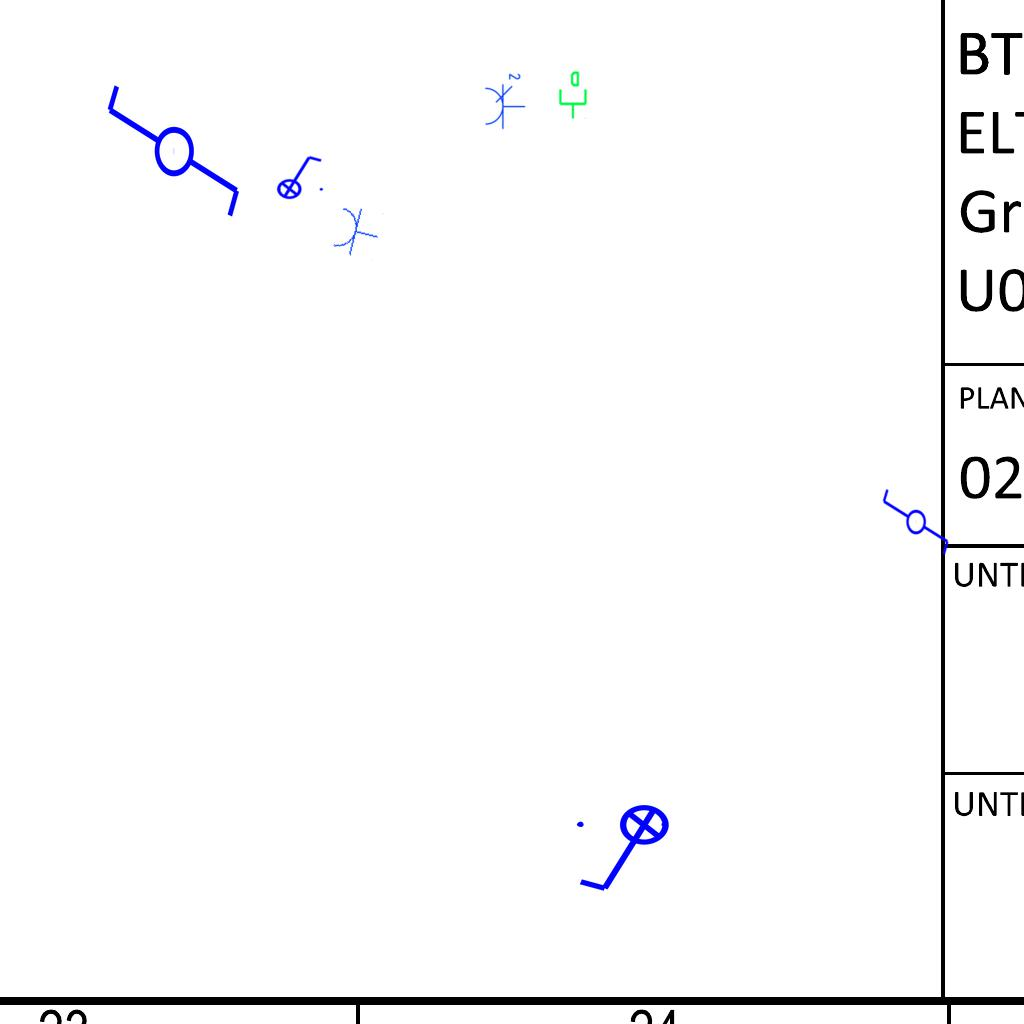Ausschalter_beleuchtet: (571, 803, 683, 899), (270, 152, 326, 200)
Datenanschluss_einfach: (555, 70, 589, 120)
Schukosteckdose_einfach: (330, 202, 384, 261)
Schukosteckdose_mehrfach: (482, 70, 526, 130)
Wechselschalter: (100, 81, 244, 238), (879, 487, 951, 565)
